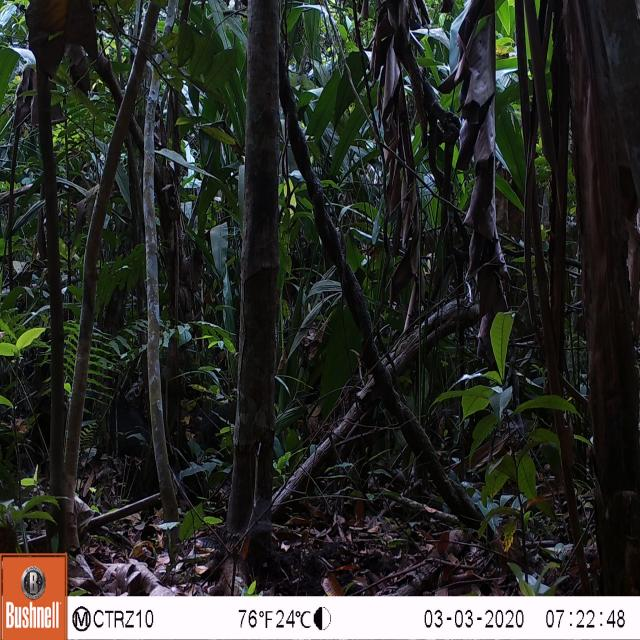Collared Peccary: (82, 386, 231, 464)
